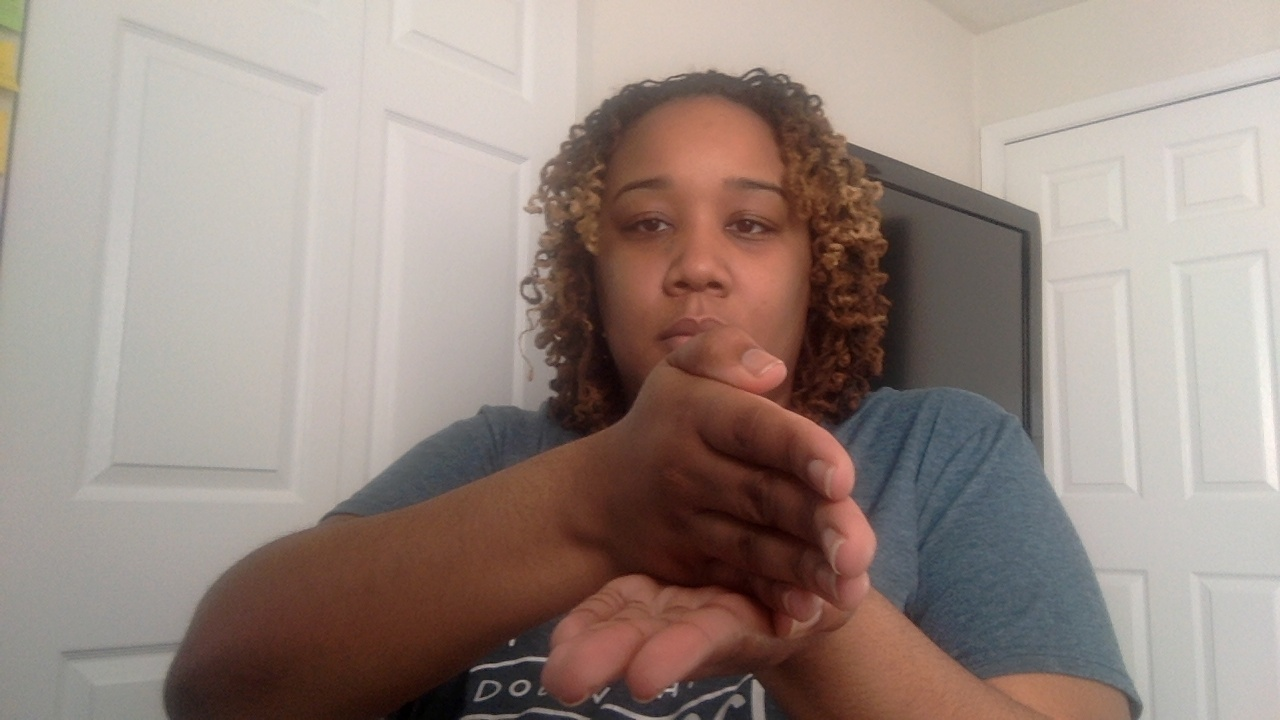stop: (485, 326, 905, 720)
